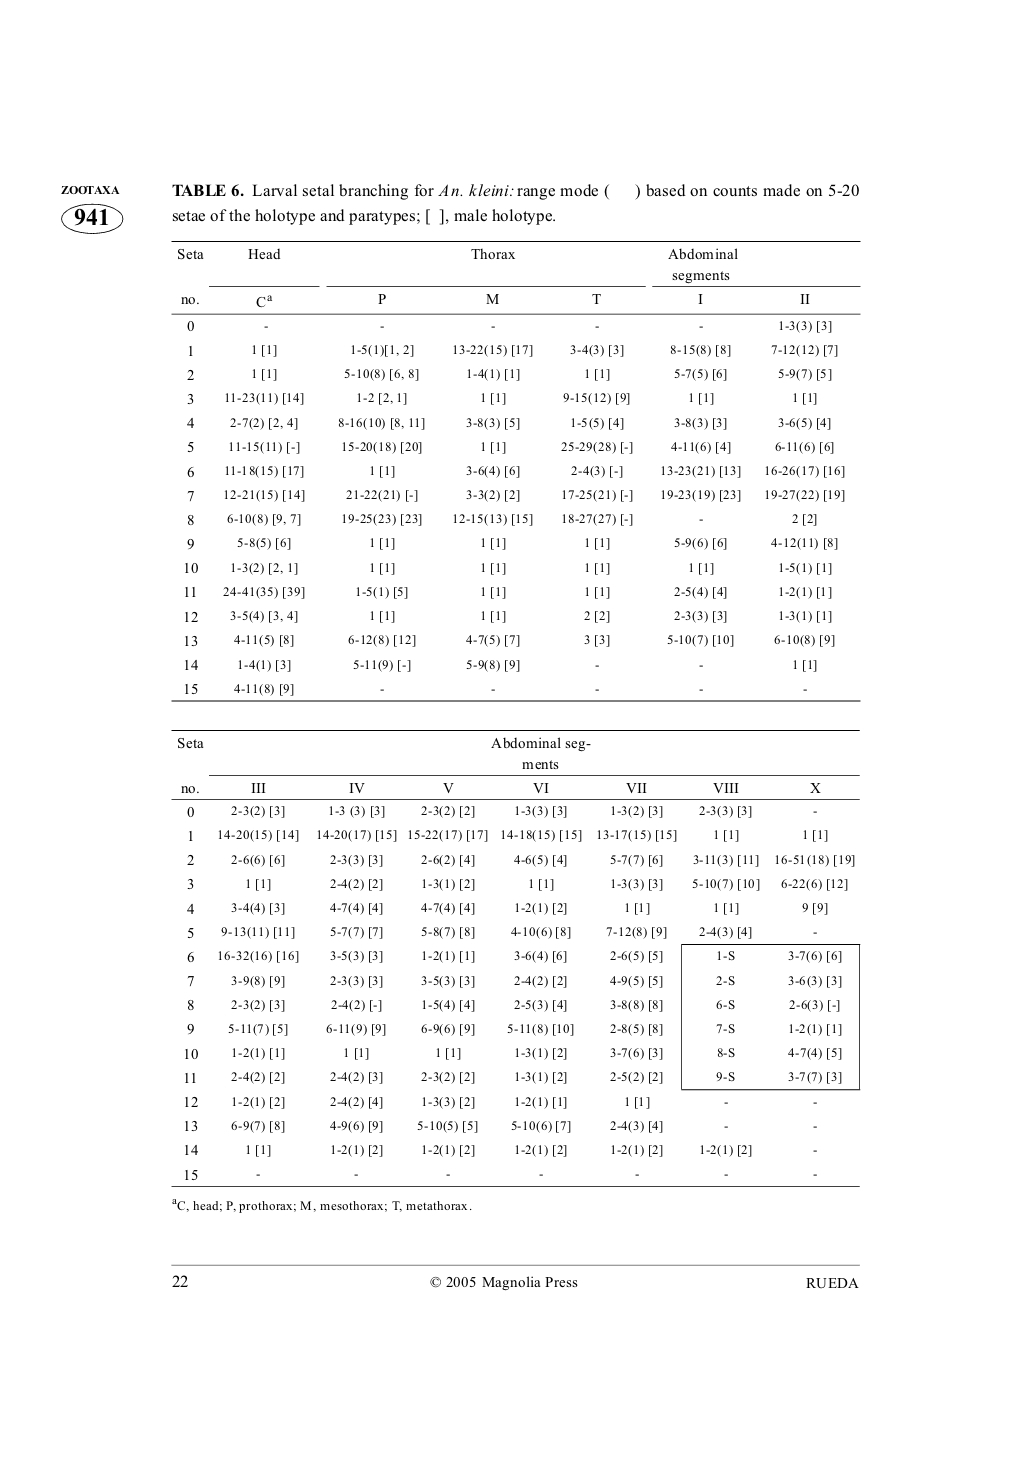Table: (171, 241, 860, 700), (171, 729, 860, 1186)
figure: (61, 186, 123, 233)
